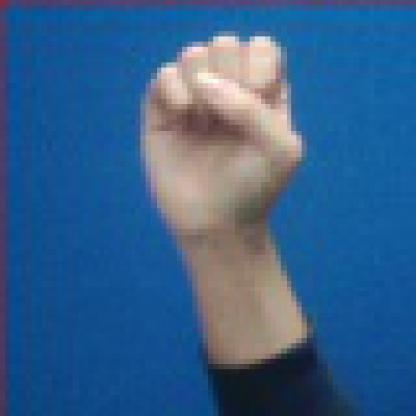zero: (99, 13, 351, 282)
